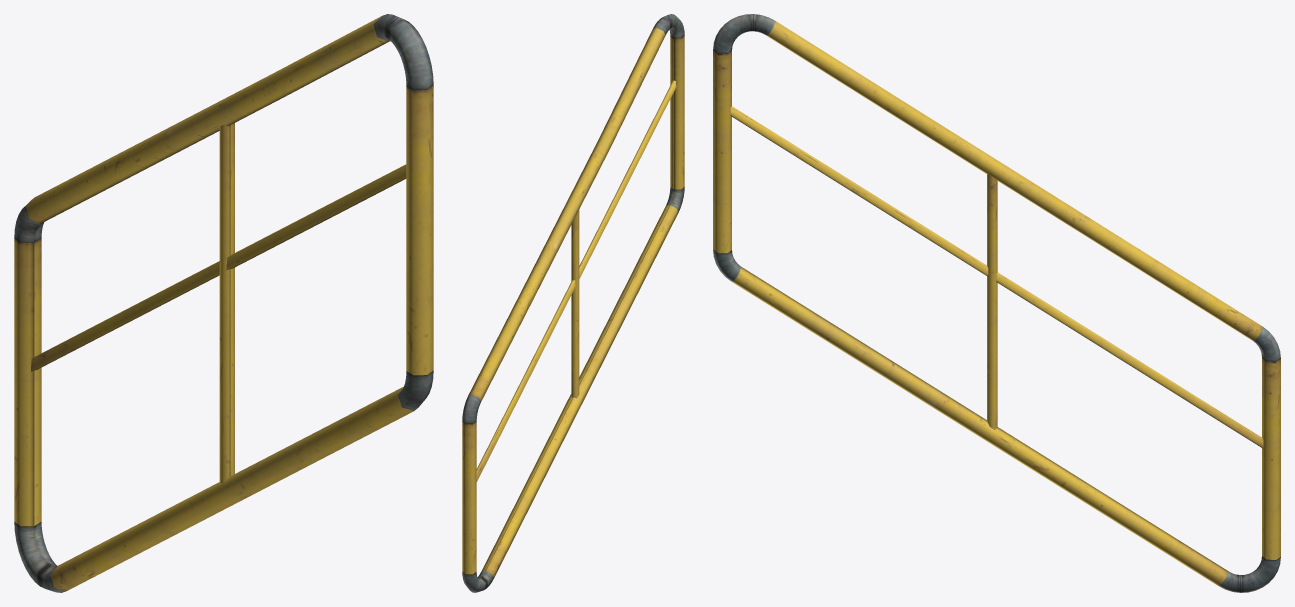
The model's file is Railing_14.fbx.
The picture shows the model from 3 angles, left to right: view 1: azimuth 30°, elevation 25°; view 2: azimuth 150°, elevation 25°; view 3: azimuth 270°, elevation 25°; orthographic projection. The views are drawn at different scales.
Parts seen in each view (by area): view 1: Railing_14; view 2: Railing_14; view 3: Railing_14.
Boxes of the visible parts, bbox=[...] form: Railing_14: bbox=[14, 14, 433, 592]; Railing_14: bbox=[462, 14, 684, 592]; Railing_14: bbox=[713, 14, 1280, 592].
Bounding box in the file's own units: 5.9 × 204 × 181.
